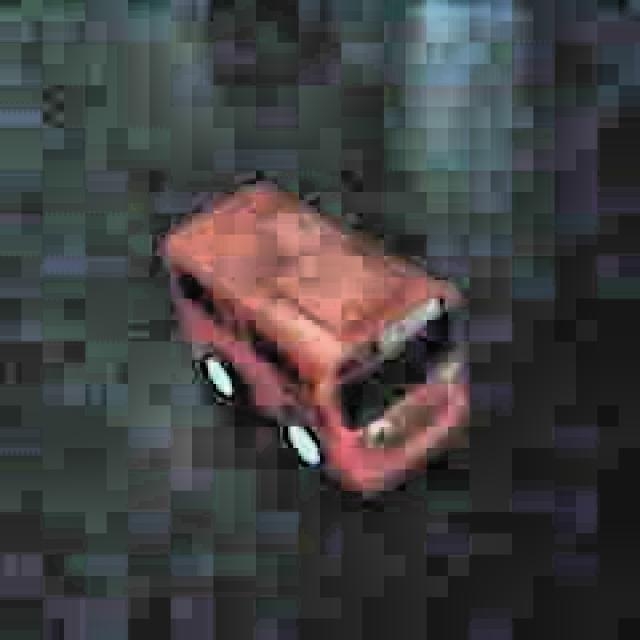bus: (158, 157, 490, 516)
